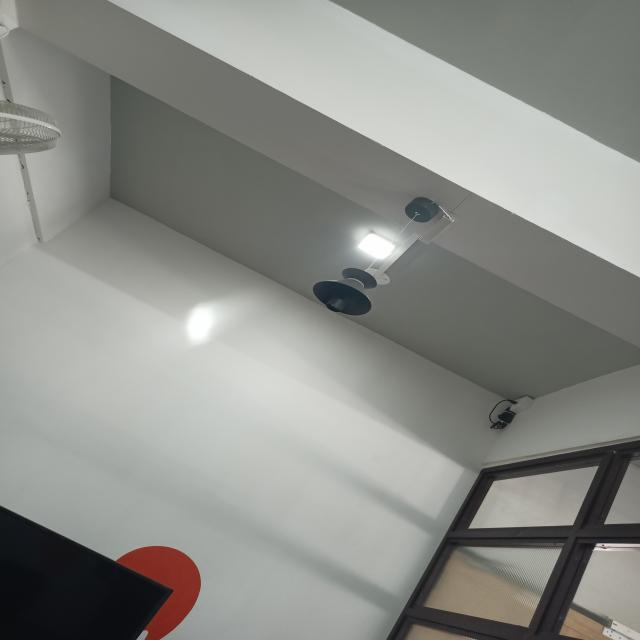light_off: (304, 261, 381, 332)
light_on: (338, 216, 412, 272)
